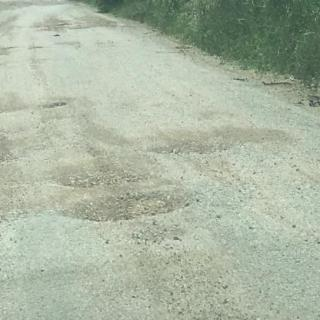pothole: (64, 192, 185, 222), (57, 172, 148, 187), (152, 145, 226, 155), (40, 102, 68, 110)
